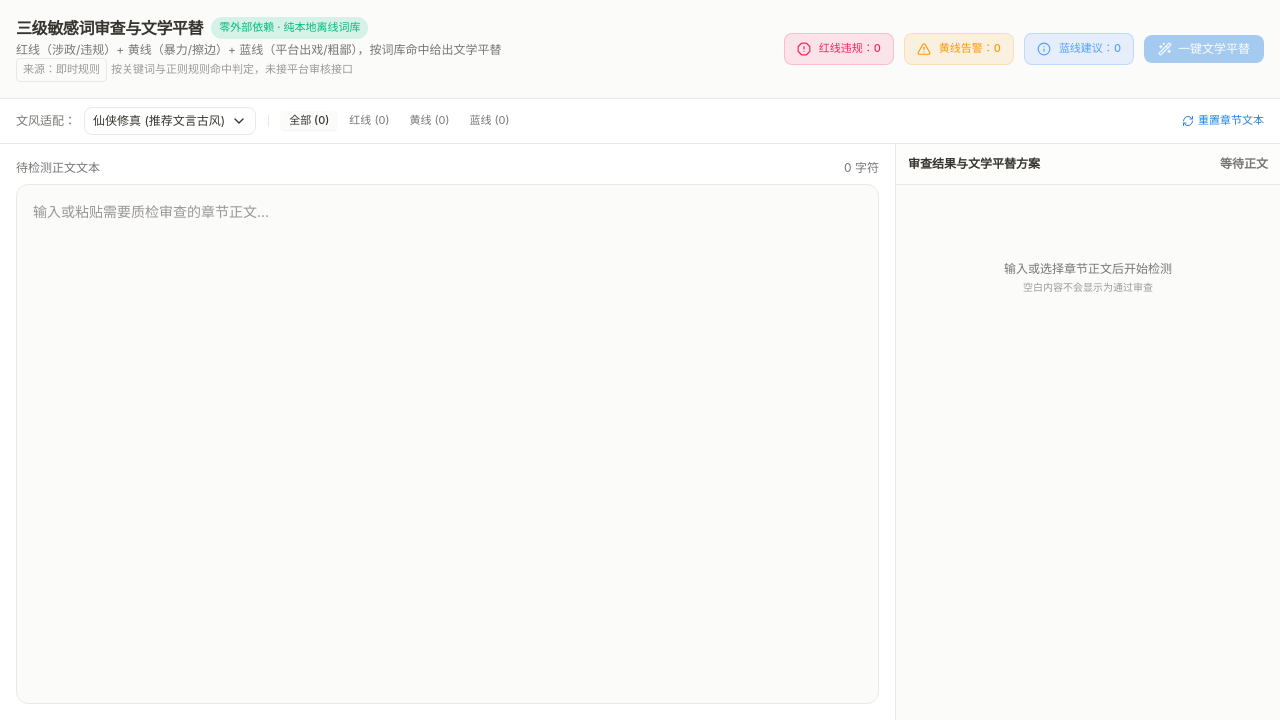
Test: SafeGateView — 敏感词审查与文学平替主视口 › filters violations when level filter button is clicked
In the text box: (448, 444) [16,184,879,704], type "林枫手持利刃杀入敌阵，刹那间血肉横飞，场面开膛破肚惨不忍睹。后方政府与公安局的飞舟正在赶来。"
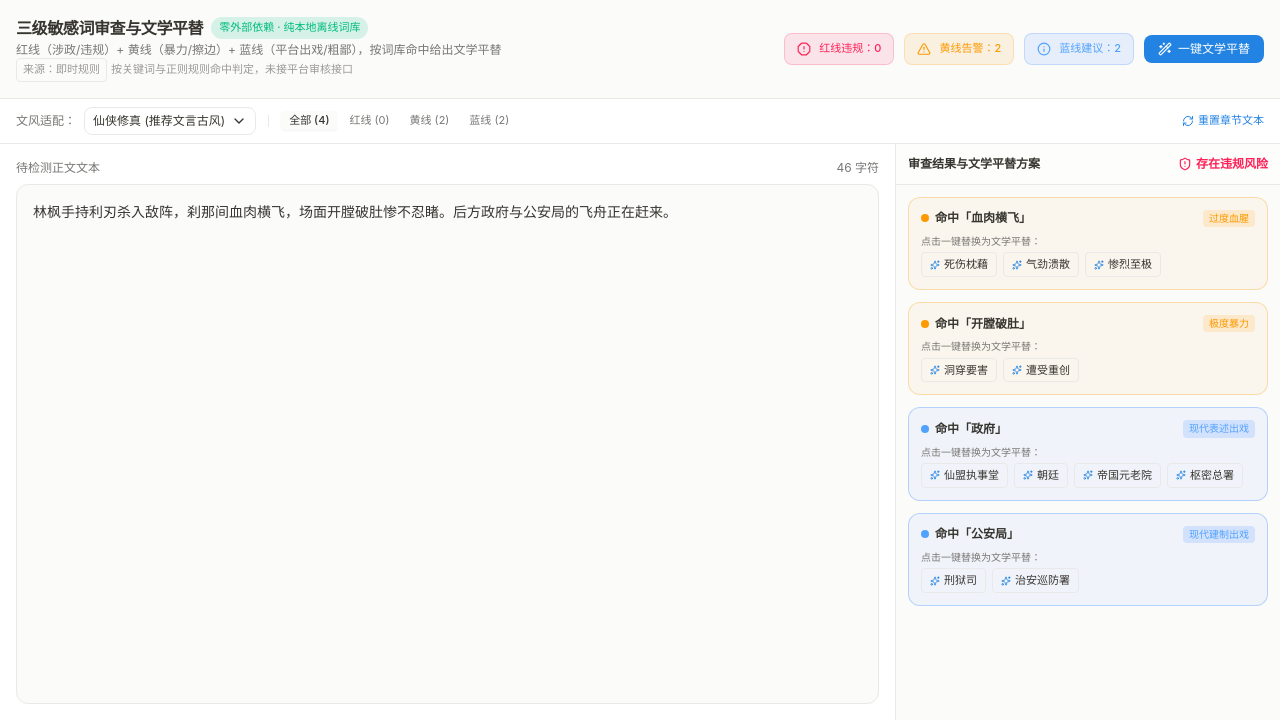
#  点击只查看黄线
Click the button "黄线 (2)": (429, 121) [402,111,457,130]
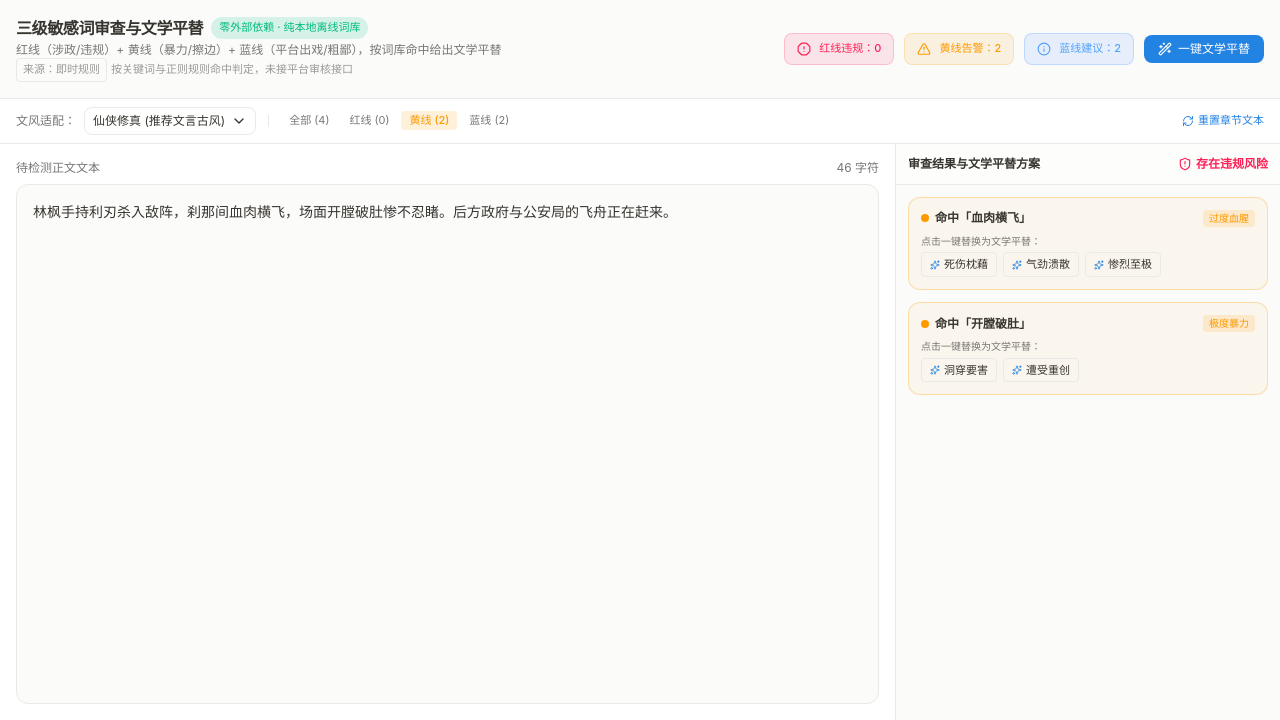
Now the text "命中「血肉横飞」" is shown, box [935,210,1031,226]
Now the text "命中「政府」" is gone
